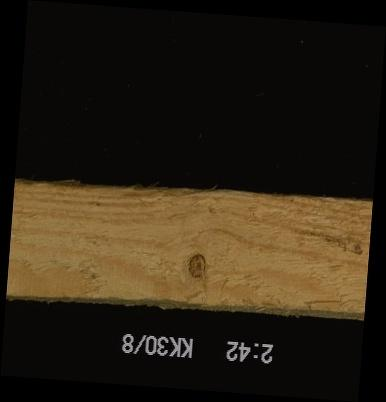dry_knot: (186, 250, 207, 280)
split: (299, 290, 349, 314)
